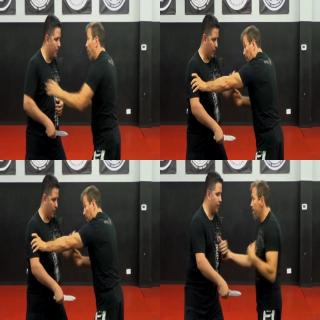knife: (44, 124, 70, 139), (217, 285, 243, 299), (212, 131, 238, 143), (52, 291, 78, 303)
